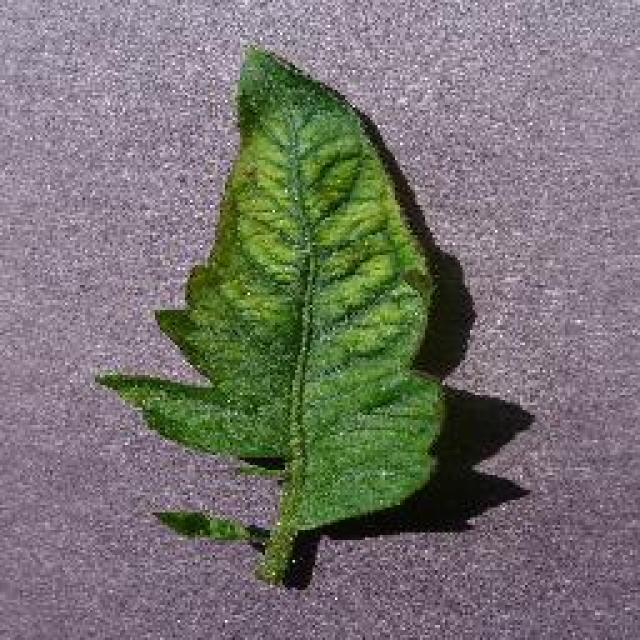Tomato___Tomato_mosaic_virus: (98, 48, 442, 582)
